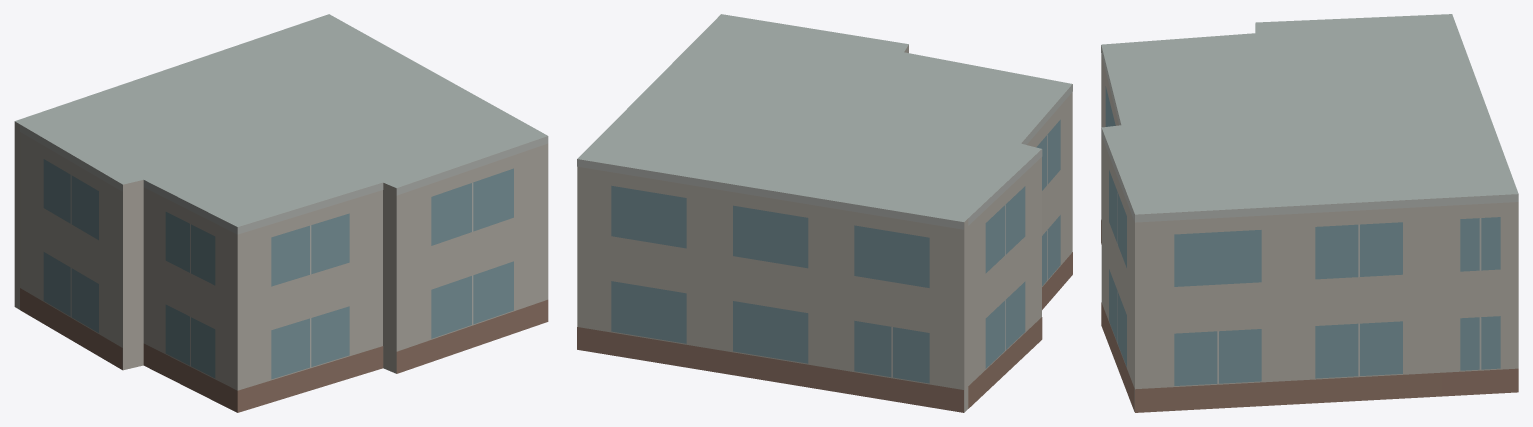
The model's file is survey-upis-32593044.glb.
3 views of the same model, side by side, from view 1: azimuth 30°, elevation 25°; view 2: azimuth 150°, elevation 25°; view 3: azimuth 270°, elevation 25° (orthographic). The views are drawn at different scales.
Visible parts, largest first — view 1: survey-upis-32593044.tmp; view 2: survey-upis-32593044.tmp; view 3: survey-upis-32593044.tmp.
Part boxes in pixels (x1=…): survey-upis-32593044.tmp: x1=14, y1=14, x2=548, y2=412; survey-upis-32593044.tmp: x1=577, y1=14, x2=1072, y2=412; survey-upis-32593044.tmp: x1=1101, y1=14, x2=1518, y2=412.
Size of the model in its own units: 13.25 by 6.1 by 11.66.
